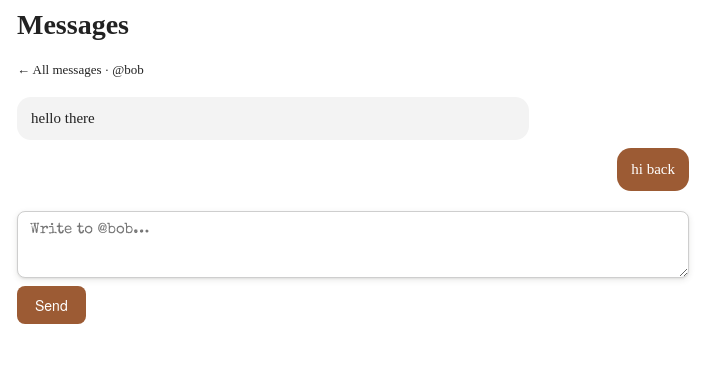
Test: a thread › keeps a refused message in the box, with the reason inline
Check: the list item "hello there" is shown, box left=17, top=96, right=529, bottom=140
Type "something rude" into the text box named "Message" at (353, 244), box left=17, top=211, right=689, bottom=278
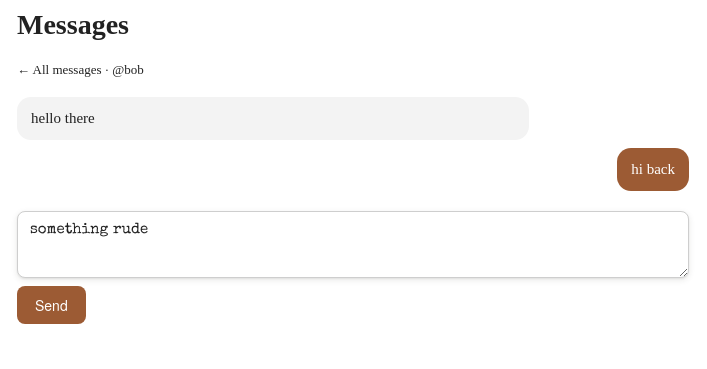
Click the button "Send" at (51, 305), box left=17, top=286, right=86, bottom=324
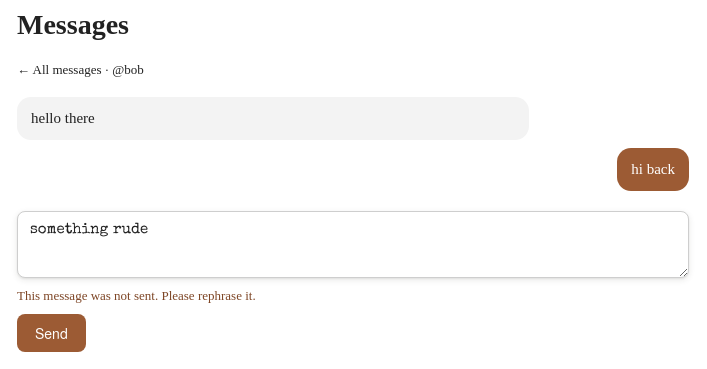
Check: the message shows "was not sent", box left=17, top=288, right=256, bottom=303
